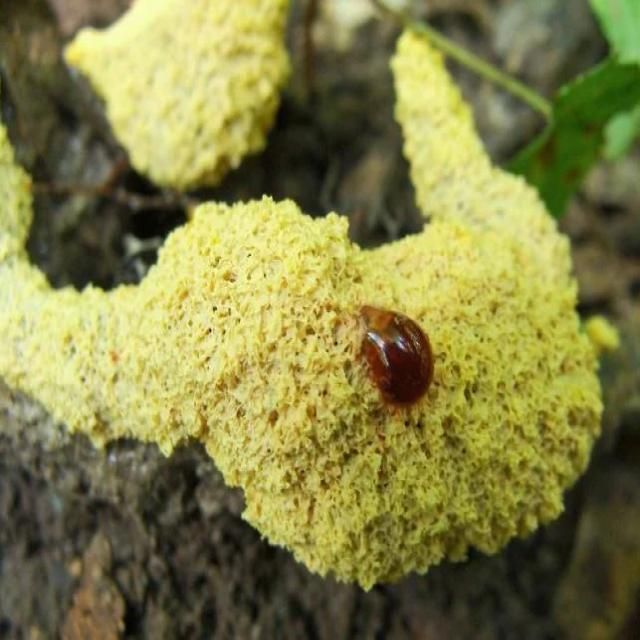Dog_vomit_slime_mold: (0, 6, 635, 627)
